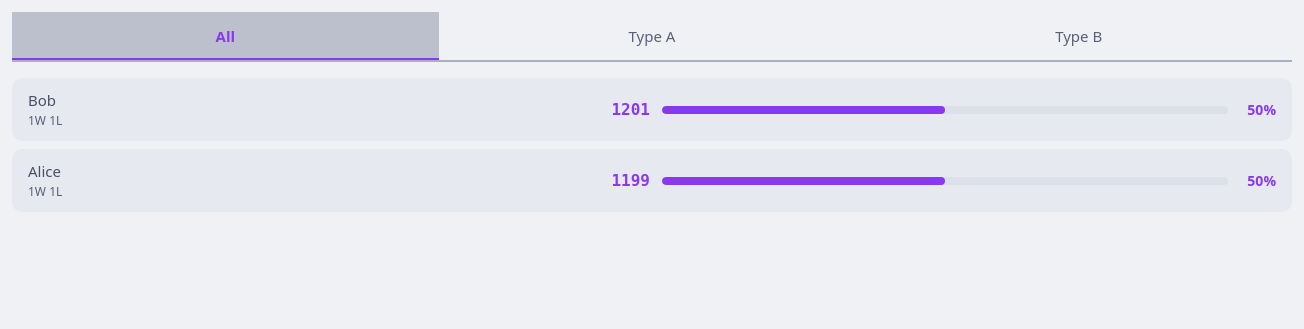
it: StatsScreen › selecting a player shows their detail view with head-to-head
Click the text "Alice" at (44, 171), box 28,161 -> 61,181
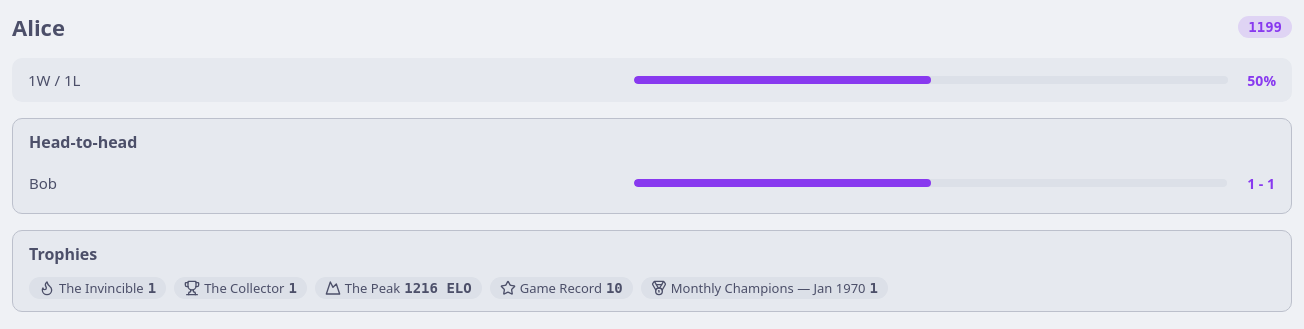
Result: the heading "Head-to-head" is shown at 29,131 -> 137,153
Result: the text "Bob" is shown at 29,173 -> 57,193
Result: the text "1 - 1" is shown at 1247,174 -> 1275,192
